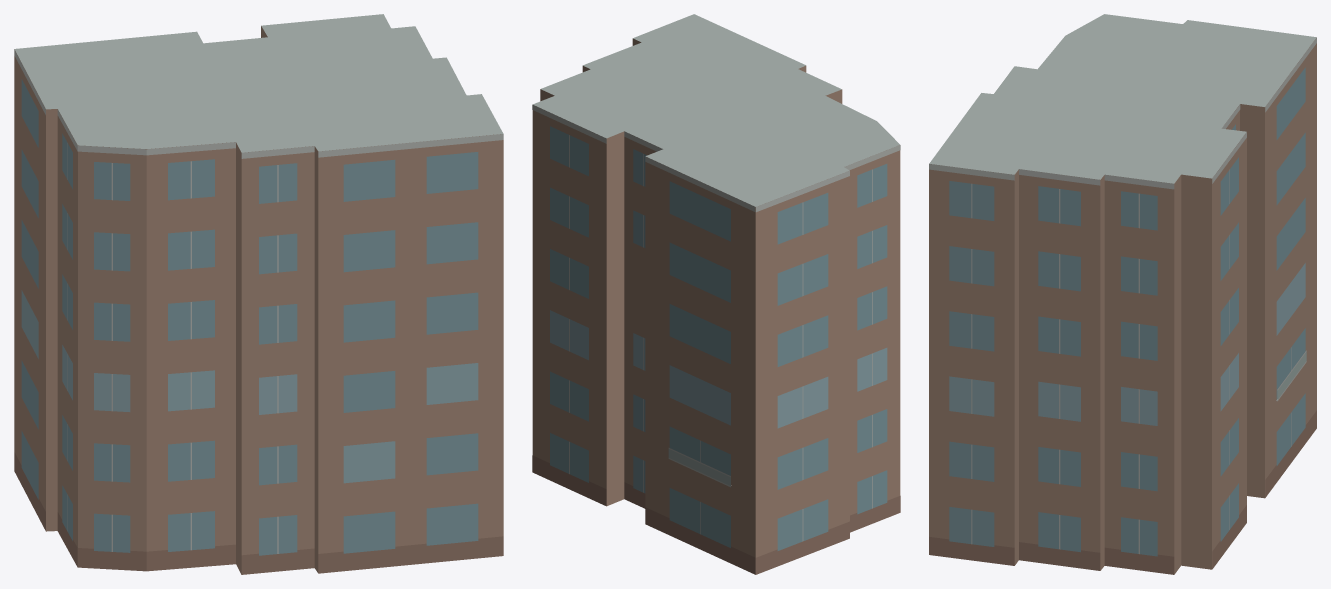
File: survey-upis-32657973.glb
The picture shows the model from 3 angles, left to right: view 1: azimuth 30°, elevation 25°; view 2: azimuth 150°, elevation 25°; view 3: azimuth 270°, elevation 25°; orthographic projection. The views are drawn at different scales.
Visible parts, largest first — view 1: survey-upis-32657973.tmp; view 2: survey-upis-32657973.tmp; view 3: survey-upis-32657973.tmp.
Boxes of the visible parts, x1,y1,x2,y2 form: survey-upis-32657973.tmp: (14,14,503,574); survey-upis-32657973.tmp: (532,14,900,574); survey-upis-32657973.tmp: (929,14,1316,574).
Size of the model in its own units: 15.41 by 16.55 by 14.88.
